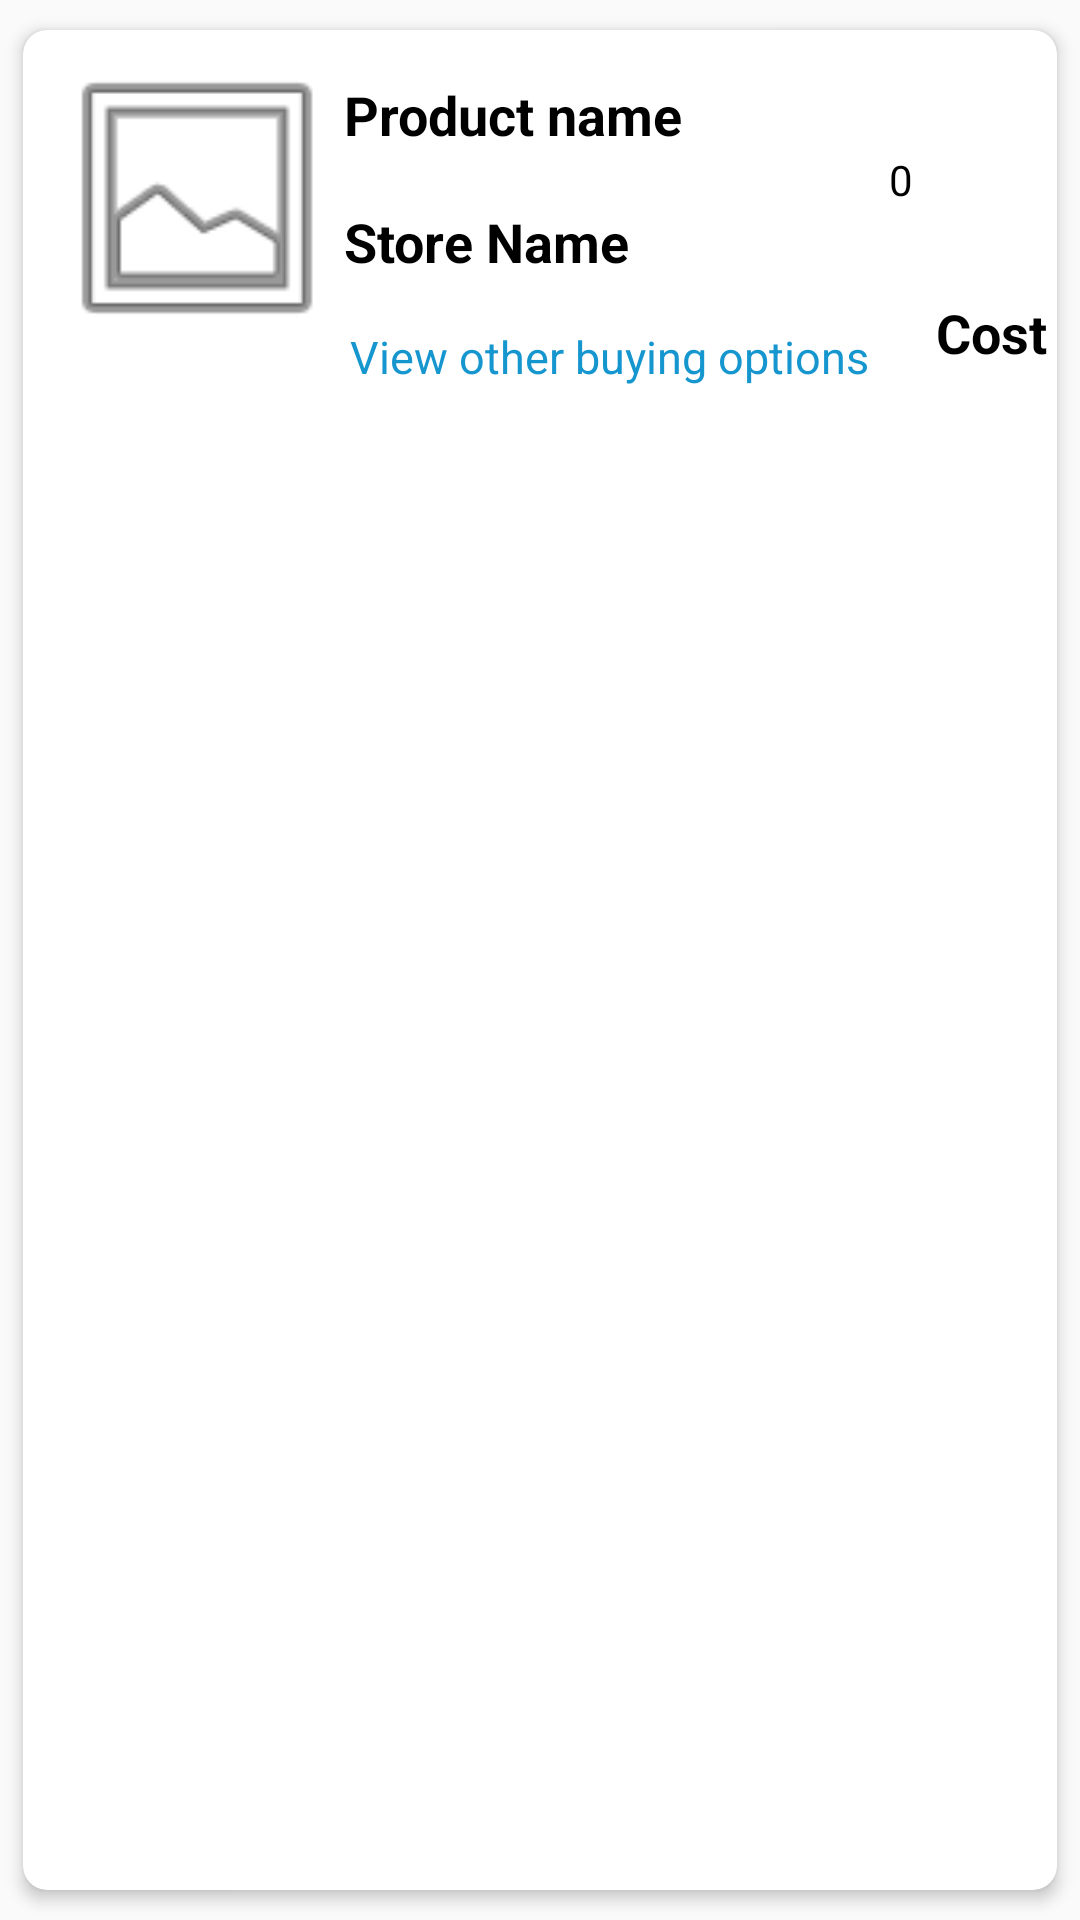

Screen size 1080×1920. Icon name, then its box in pixels as (x1, y1, x2, y2):
gallery: (81, 82, 371, 314)
